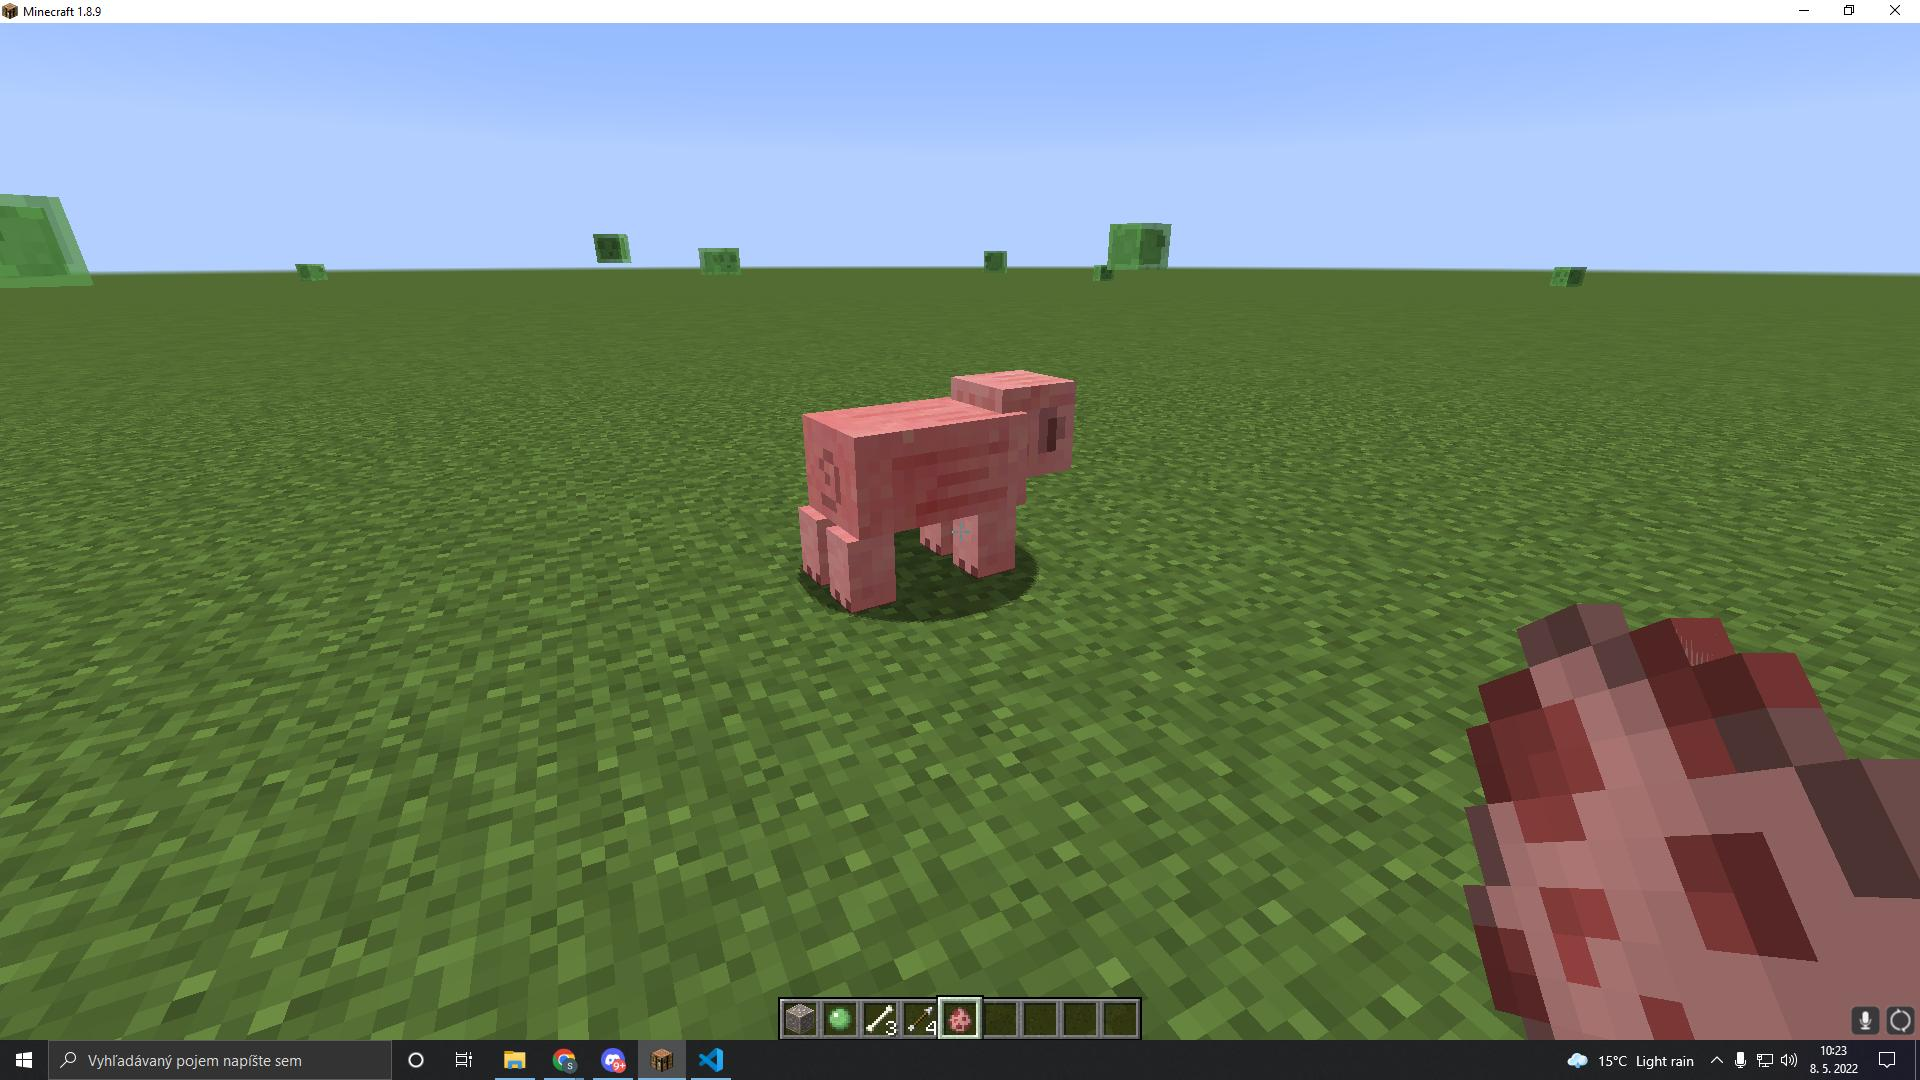pig: (786, 364, 1087, 618)
